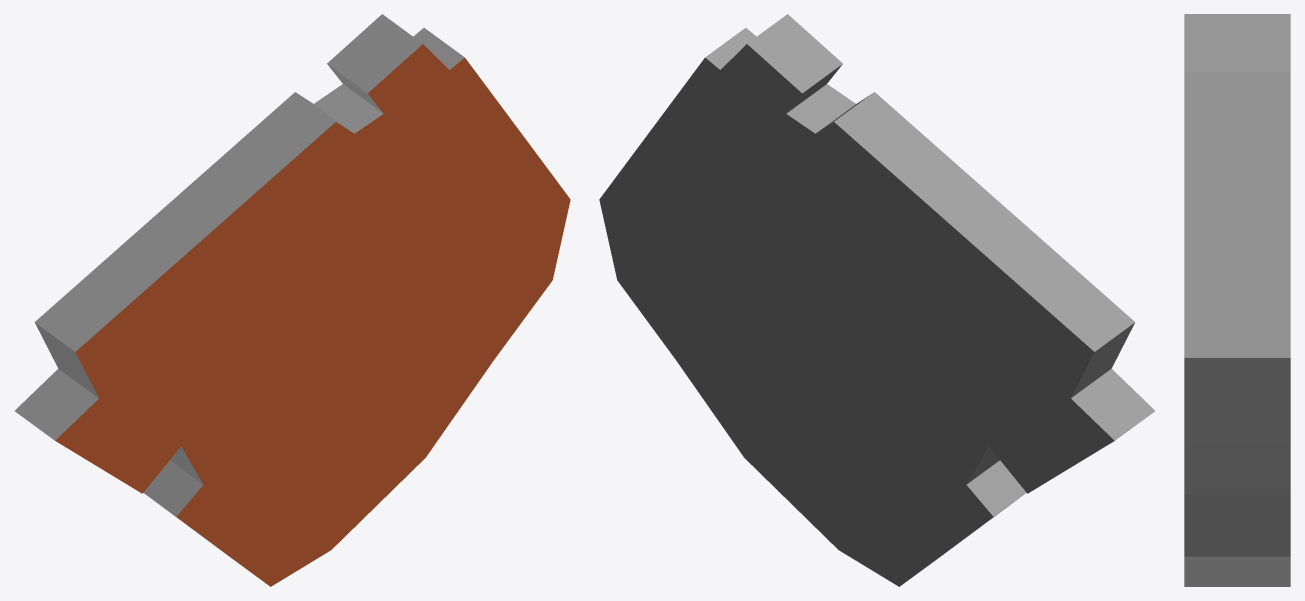
File: construction_1271_assumed_A_Casa_h6m.obj
The picture shows the model from 3 angles, left to right: view 1: azimuth 30°, elevation 25°; view 2: azimuth 150°, elevation 25°; view 3: azimuth 270°, elevation 25°; orthographic projection. The views are drawn at different scales.
Visible parts, largest first — view 1: construction_1271_assumed_A_Casa; view 2: construction_1271_assumed_A_Casa; view 3: construction_1271_assumed_A_Casa.
Boxes of the visible parts, left/top/right/bottom form: construction_1271_assumed_A_Casa: left=15, top=14, right=570, bottom=586; construction_1271_assumed_A_Casa: left=599, top=14, right=1154, bottom=586; construction_1271_assumed_A_Casa: left=1184, top=14, right=1290, bottom=586.
Bounding box in the file's own units: 43.77 × 41.05 × 6.
